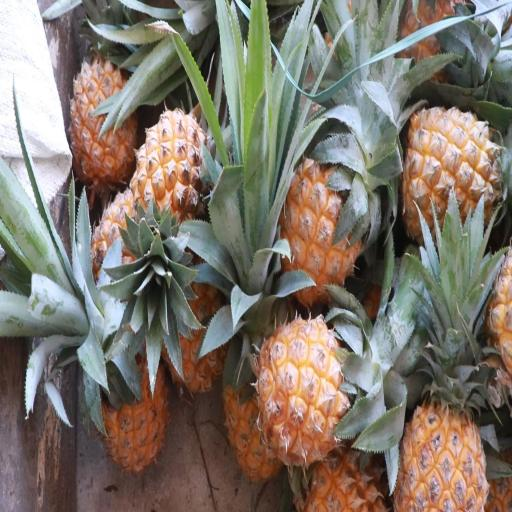Pineapple - v8 v1: (392, 281, 489, 512), (250, 311, 356, 481), (400, 103, 504, 255), (273, 139, 367, 306), (90, 299, 174, 485), (129, 108, 217, 245), (66, 49, 141, 191)
